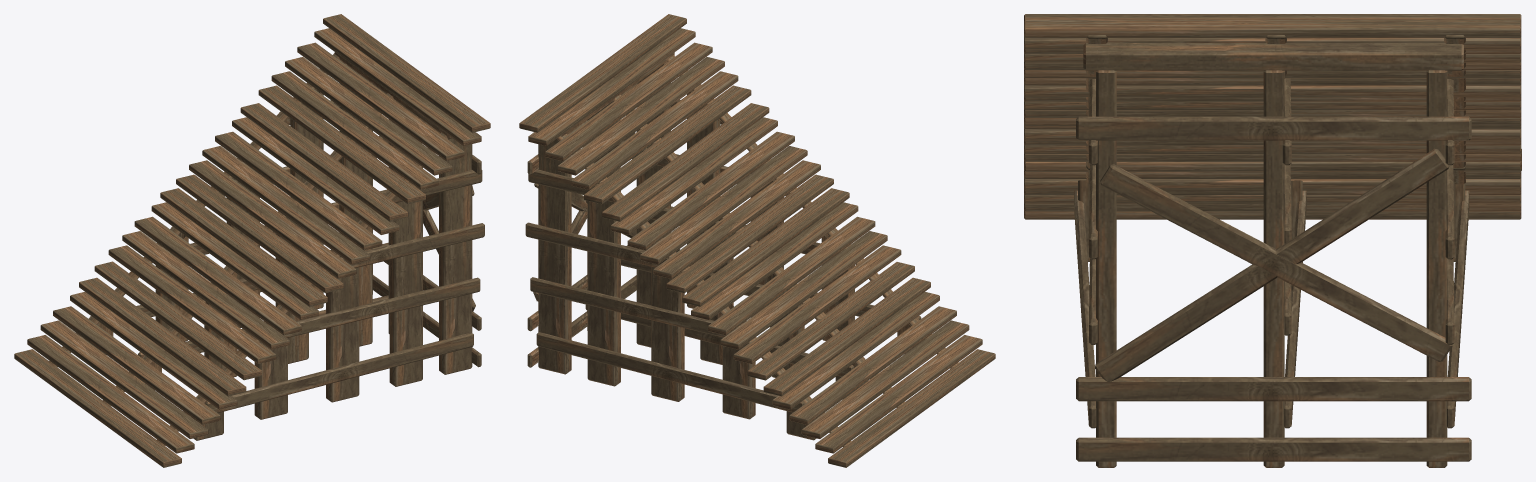
File: SM_stairs_02.fbx
3 views of the same model, side by side, from view 1: azimuth 30°, elevation 25°; view 2: azimuth 150°, elevation 25°; view 3: azimuth 270°, elevation 25° (orthographic). The views are drawn at different scales.
Visible parts, largest first — view 1: SM_stairs_02_LOD0; view 2: SM_stairs_02_LOD0; view 3: SM_stairs_02_LOD0.
Boxes of the visible parts, box(x1,y1,x2,y2) form: SM_stairs_02_LOD0: box(14, 14, 490, 467); SM_stairs_02_LOD0: box(519, 14, 995, 467); SM_stairs_02_LOD0: box(1024, 14, 1521, 467).
Bounding box in the file's own units: 528 × 400 × 392.
1 material, 1 textured.
